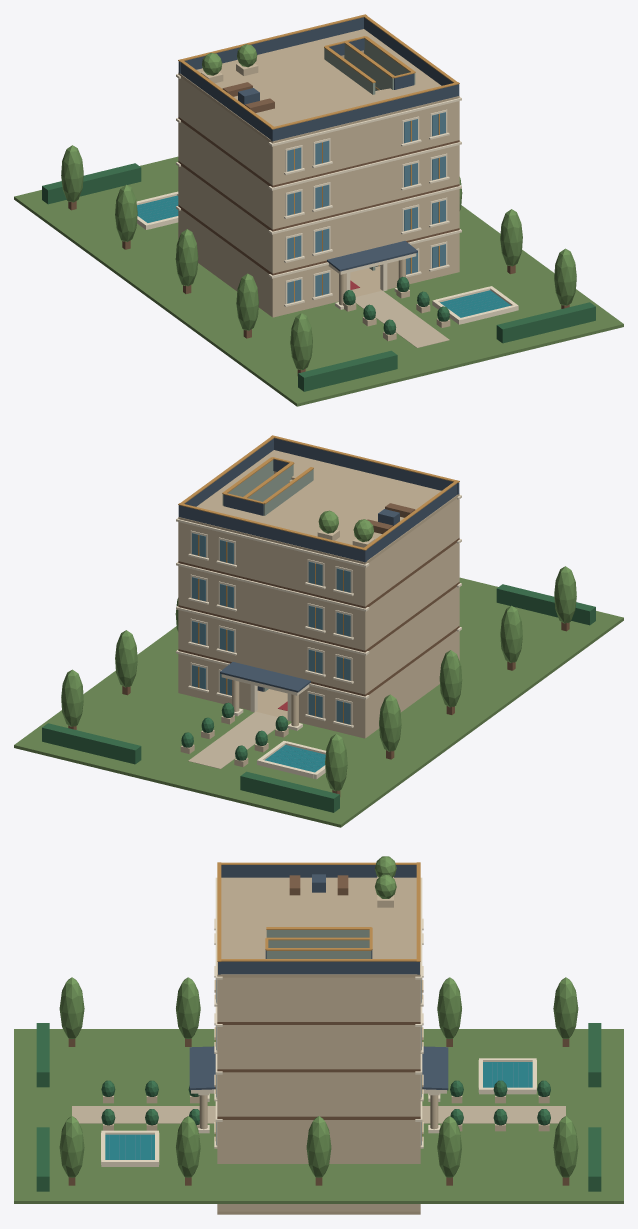
File: manor.glb
3 views of the same model, one above another, from view 1: azimuth 30°, elevation 25°; view 2: azimuth 150°, elevation 25°; view 3: azimuth 270°, elevation 25° (orthographic). The views are drawn at different scales.
Parts seen in each view (by area): view 1: Garden.001, West gallery.004, Garden, Facade wall.007, Facade wall.005, Side garden, Facade wall.003, Side wall.008, Side wall.006, Side wall.004, Side wall.002, Terrace parapet.001 (+31 smaller); view 2: Garden, Garden.001, West gallery.004, Facade wall.006, Facade wall.004, Facade wall.002, Side garden, Side wall.006, Side wall.008, Side wall.004, Side wall.002, Terrace parapet (+30 smaller); view 3: Garden, Garden.001, West gallery.004, Side wall.005, Side wall.007, Side wall.009, Side garden.001, Side wall.003, Terrace parapet.003, Terrace parapet.002, Limestone garden avenue.001, Limestone garden avenue (+32 smaller).
Part boxes in pixels (left/top/right/bottom): Garden.001: left=202, top=255, right=623, bottom=406; West gallery.004: left=178, top=43, right=396, bottom=143; Garden: left=14, top=156, right=178, bottom=267; Facade wall.007: left=271, top=101, right=459, bottom=185; Facade wall.005: left=271, top=145, right=459, bottom=229; Side garden: left=108, top=249, right=272, bottom=337; Facade wall.003: left=271, top=189, right=459, bottom=273; Side wall.008: left=178, top=78, right=275, bottom=185; Side wall.006: left=178, top=121, right=274, bottom=227; Side wall.004: left=178, top=165, right=273, bottom=271; Side wall.002: left=178, top=209, right=273, bottom=316; Terrace parapet.001: left=271, top=84, right=459, bottom=141; Garden: left=14, top=676, right=435, bottom=827; Garden.001: left=459, top=577, right=623, bottom=688; West gallery.004: left=241, top=464, right=459, bottom=564; Facade wall.006: left=178, top=522, right=366, bottom=606; Facade wall.004: left=178, top=566, right=366, bottom=650; Facade wall.002: left=178, top=610, right=366, bottom=694; Side garden: left=365, top=670, right=529, bottom=758; Side wall.006: left=362, top=542, right=459, bottom=648; Side wall.008: left=363, top=499, right=459, bottom=606; Side wall.004: left=363, top=586, right=459, bottom=692; Side wall.002: left=364, top=630, right=459, bottom=737; Terrace parapet: left=178, top=505, right=366, bottom=562; Garden: left=420, top=1029, right=623, bottom=1203; Garden.001: left=14, top=1029, right=217, bottom=1203; West gallery.004: left=221, top=877, right=416, bottom=941; Side wall.005: left=217, top=1072, right=420, bottom=1116; Side wall.007: left=217, top=1025, right=420, bottom=1069; Side wall.009: left=217, top=977, right=420, bottom=1021; Side garden.001: left=217, top=1164, right=420, bottom=1203; Side wall.003: left=217, top=1120, right=420, bottom=1163; Terrace parapet.003: left=220, top=961, right=417, bottom=974; Terrace parapet.002: left=221, top=865, right=416, bottom=877; Limestone garden avenue.001: left=72, top=1106, right=215, bottom=1123; Limestone garden avenue: left=422, top=1106, right=565, bottom=1123.
Size of what is drawn, in the model's own units: 28 by 20.44 by 42.
